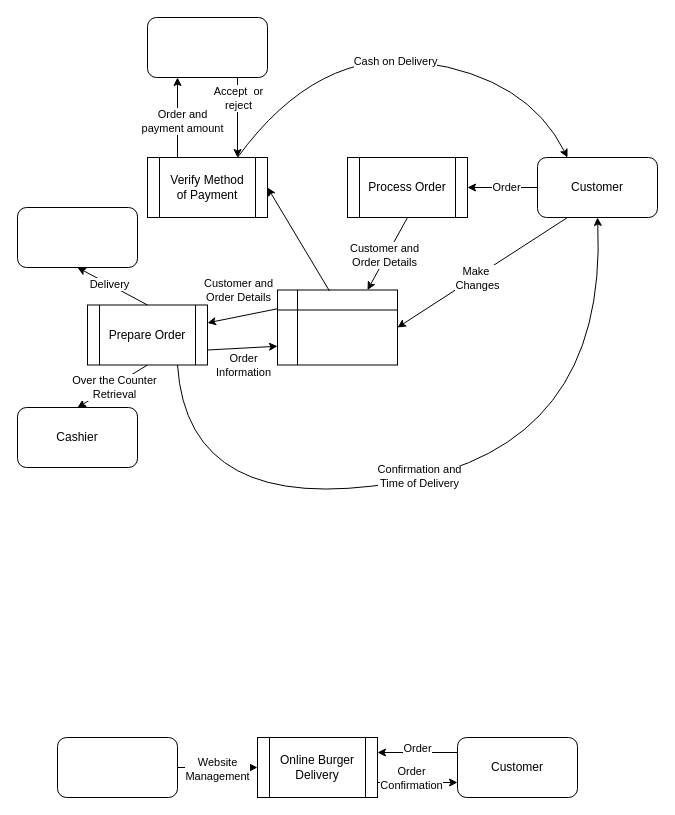
This 675x815 diagram has some shape labels left out. Here are the shapes that lost their labels. From the top down, the centre of each, then its label:
pixel 207 47: Credit Card Company
pixel 77 237: Delivery Driver
pixel 337 327: Customer Database
pixel 117 767: Manager
